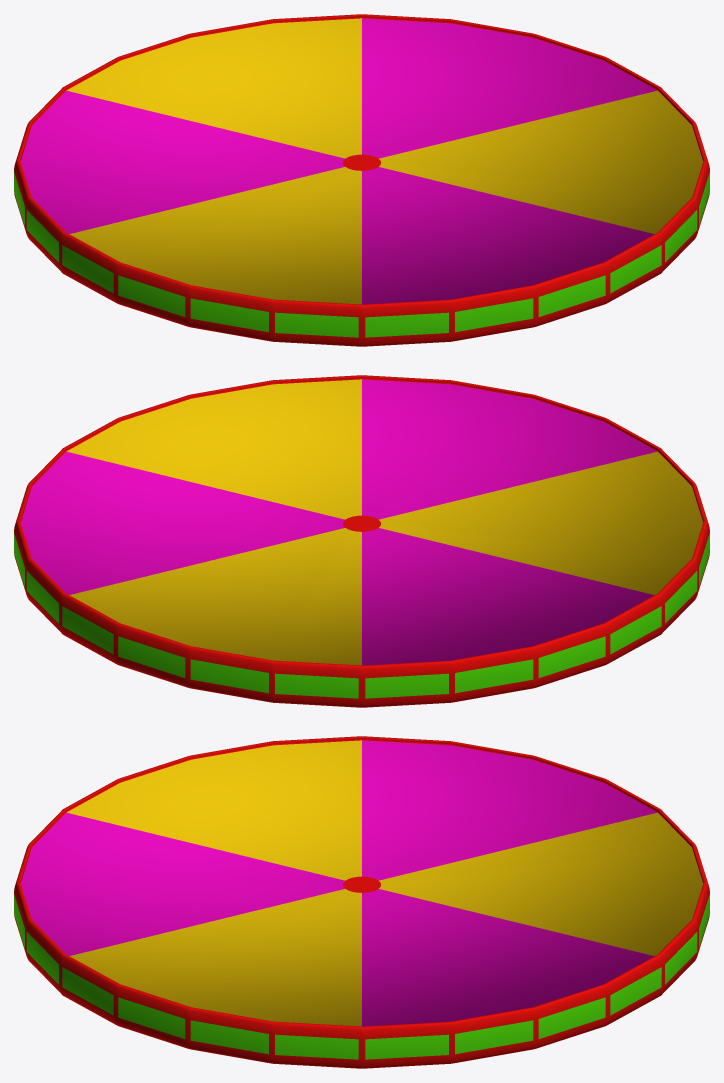
Rendered from TurningPlatform.fbx.
3 renders of one model, top to bottom at view 1: azimuth 30°, elevation 25°; view 2: azimuth 150°, elevation 25°; view 3: azimuth 270°, elevation 25°, orthographic.
Parts seen in each view (by area): view 1: Cylinder; view 2: Cylinder; view 3: Cylinder.
Boxes of the visible parts, left/top/right/bottom form: Cylinder: left=14, top=14, right=709, bottom=346; Cylinder: left=14, top=375, right=709, bottom=707; Cylinder: left=14, top=736, right=709, bottom=1068.
Bounding box in the file's own units: 1602 × 104 × 1602.
